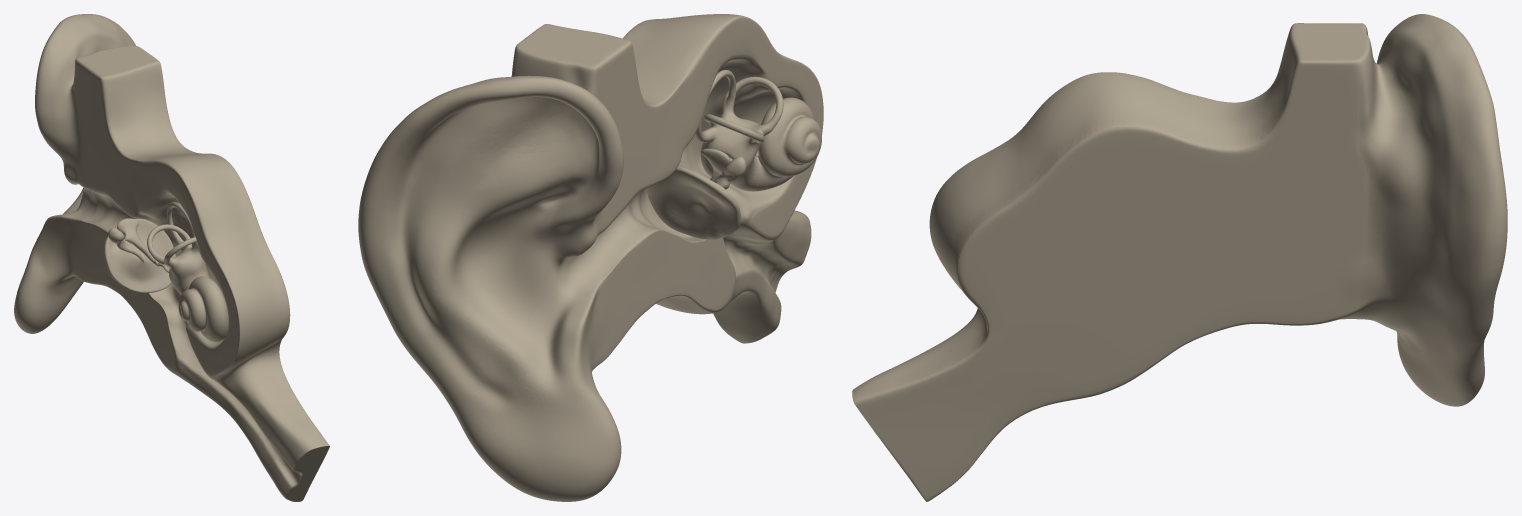
The model's file is ear.glb.
The picture shows the model from 3 angles, left to right: view 1: azimuth 30°, elevation 25°; view 2: azimuth 150°, elevation 25°; view 3: azimuth 270°, elevation 25°; orthographic projection. The views are drawn at different scales.
Parts seen in each view (by area): view 1: Object_2, Object_3, Object_4; view 2: Object_2, Object_3, Object_4; view 3: Object_3, Object_2, Object_4.
Boxes of the visible parts, x1=… form: Object_2: x1=14, y1=14, x2=328, y2=501; Object_3: x1=22, y1=16, x2=329, y2=489; Object_4: x1=15, y1=15, x2=326, y2=501; Object_2: x1=358, y1=14, x2=821, y2=501; Object_3: x1=360, y1=16, x2=823, y2=499; Object_4: x1=358, y1=14, x2=822, y2=501; Object_3: x1=852, y1=14, x2=1506, y2=500; Object_2: x1=854, y1=14, x2=1507, y2=501; Object_4: x1=852, y1=23, x2=1507, y2=499.
Size of the model in its own units: 9.43 by 19.43 by 25.4.
